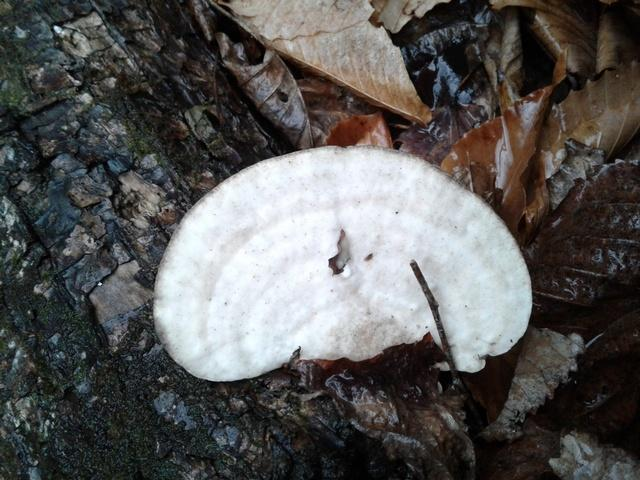Non-edible Mushroom: (151, 143, 533, 383)
